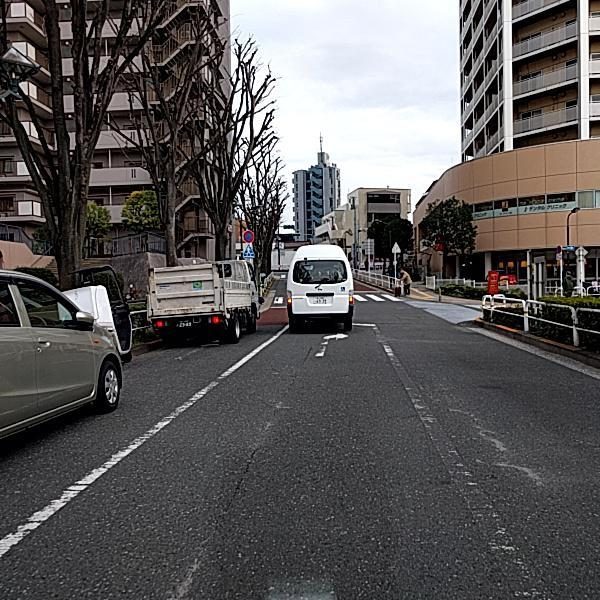D00: (438, 398, 534, 482), (225, 435, 264, 507)
D10: (386, 411, 437, 424)
D44: (381, 321, 577, 597)
